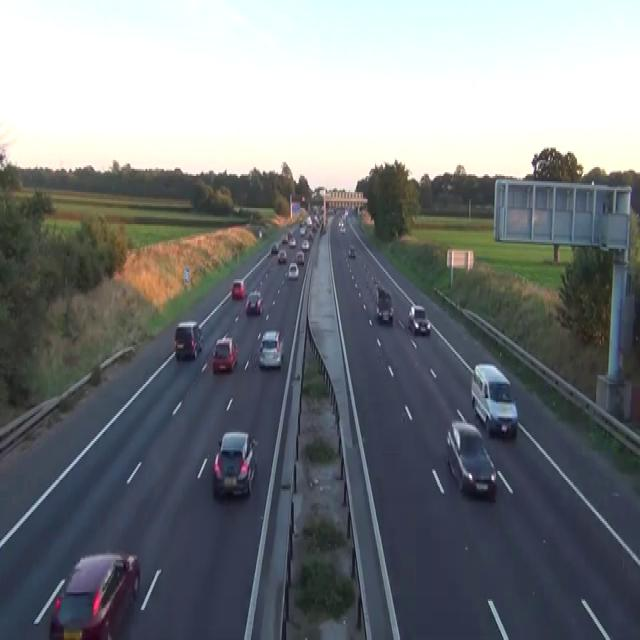Car: (49, 551, 140, 638), (446, 420, 497, 500), (470, 363, 518, 437), (212, 430, 257, 498), (174, 320, 203, 361), (258, 329, 283, 368), (211, 336, 238, 372), (407, 304, 431, 334), (376, 288, 393, 322), (245, 290, 263, 314), (190, 320, 203, 350), (231, 279, 245, 299), (288, 261, 299, 279), (277, 249, 287, 263), (295, 251, 304, 265), (348, 245, 355, 258), (338, 220, 345, 233), (270, 242, 279, 252), (301, 238, 309, 249), (320, 222, 326, 235), (289, 237, 296, 247), (299, 224, 305, 235), (287, 229, 293, 240), (306, 215, 312, 226), (307, 229, 313, 240), (328, 206, 335, 215), (281, 234, 288, 243), (233, 204, 239, 213), (338, 218, 343, 228), (340, 224, 345, 233), (258, 228, 262, 238), (344, 208, 348, 217), (301, 195, 305, 202)
